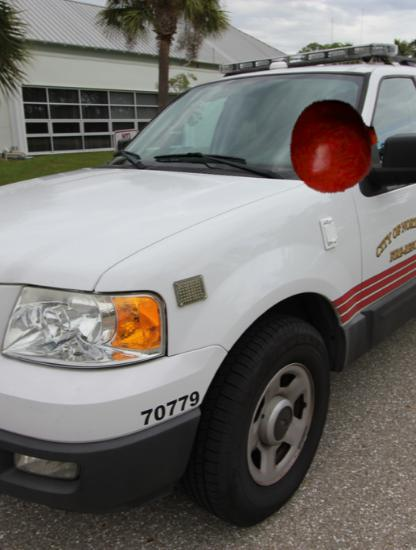Pomegranate: (285, 97, 382, 194)
